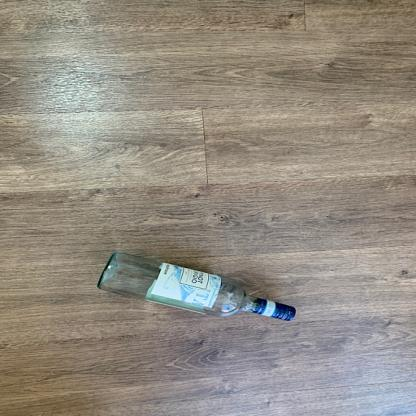trash: (84, 250, 304, 327)
